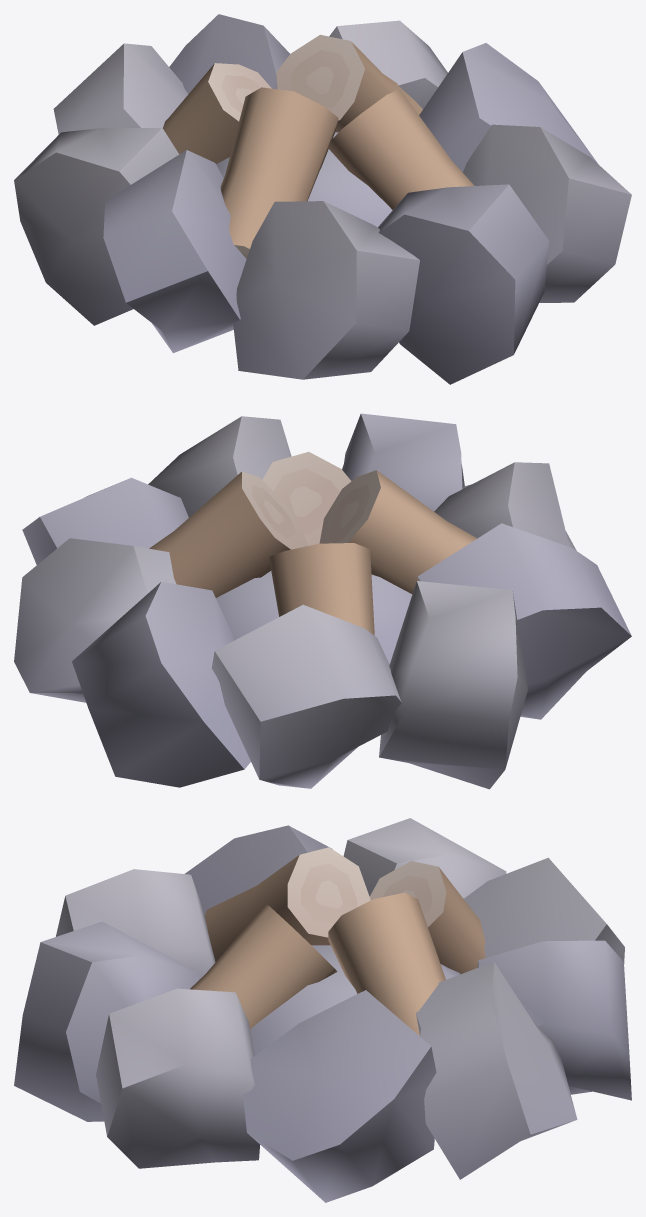
The model's file is campfire.glb.
The picture shows the model from 3 angles, top to bottom: view 1: azimuth 30°, elevation 25°; view 2: azimuth 150°, elevation 25°; view 3: azimuth 270°, elevation 25°; orthographic projection. The views are drawn at different scales.
Visible parts, largest first — view 1: campfire; view 2: campfire; view 3: campfire.
Boxes of the visible parts, x1,y1,x2,y2 form: campfire: [14, 14, 631, 384]; campfire: [14, 413, 631, 789]; campfire: [14, 818, 631, 1202].
Size of the model in its own units: 0.6336 by 0.2773 by 0.6411.
